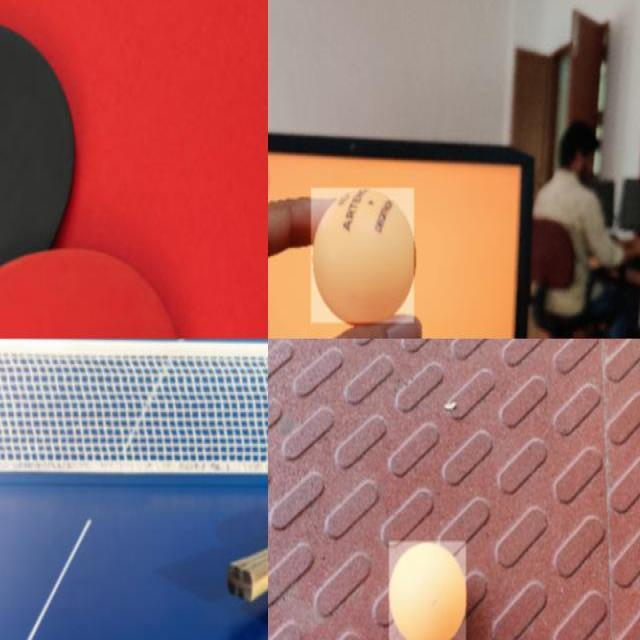ping-pong-ball: (311, 188, 415, 324), (388, 541, 468, 639)
